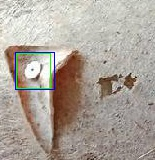text: (16, 53, 50, 88)
